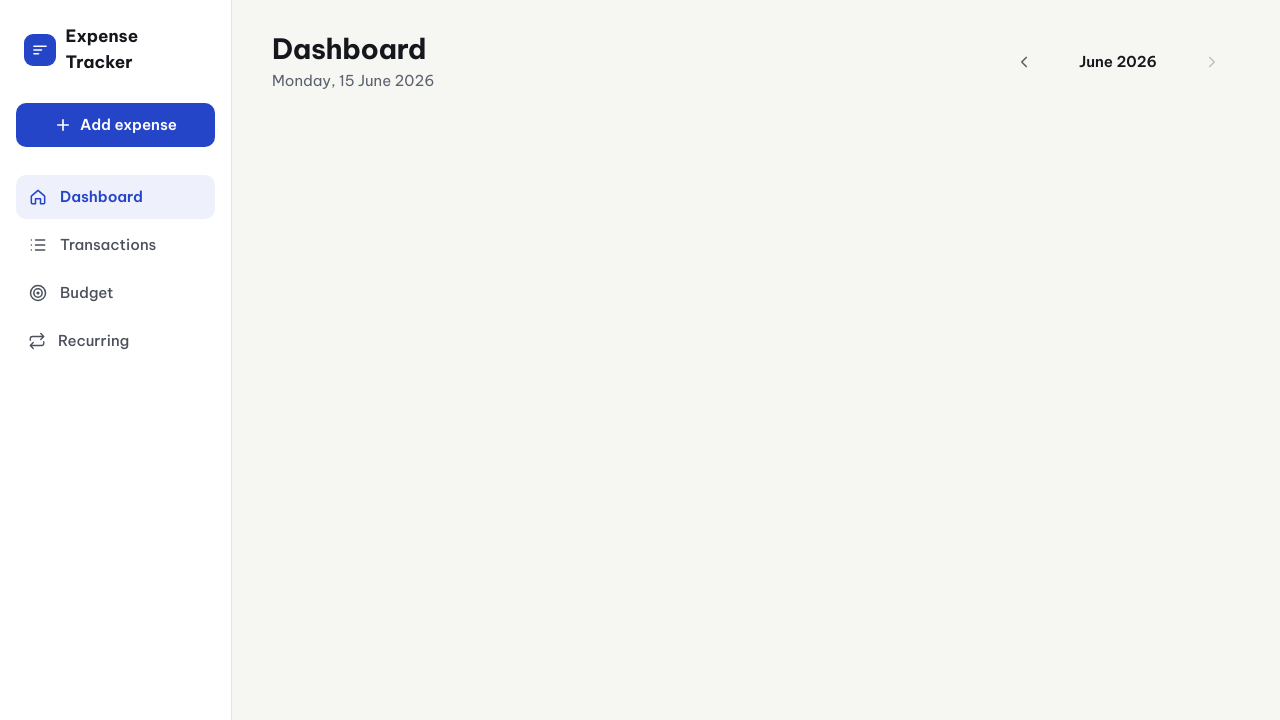
Test: duplicate form › R5: opens as Add expense with no Delete button
Click the button "Transactions" at (116, 245), box [16,223,215,267]
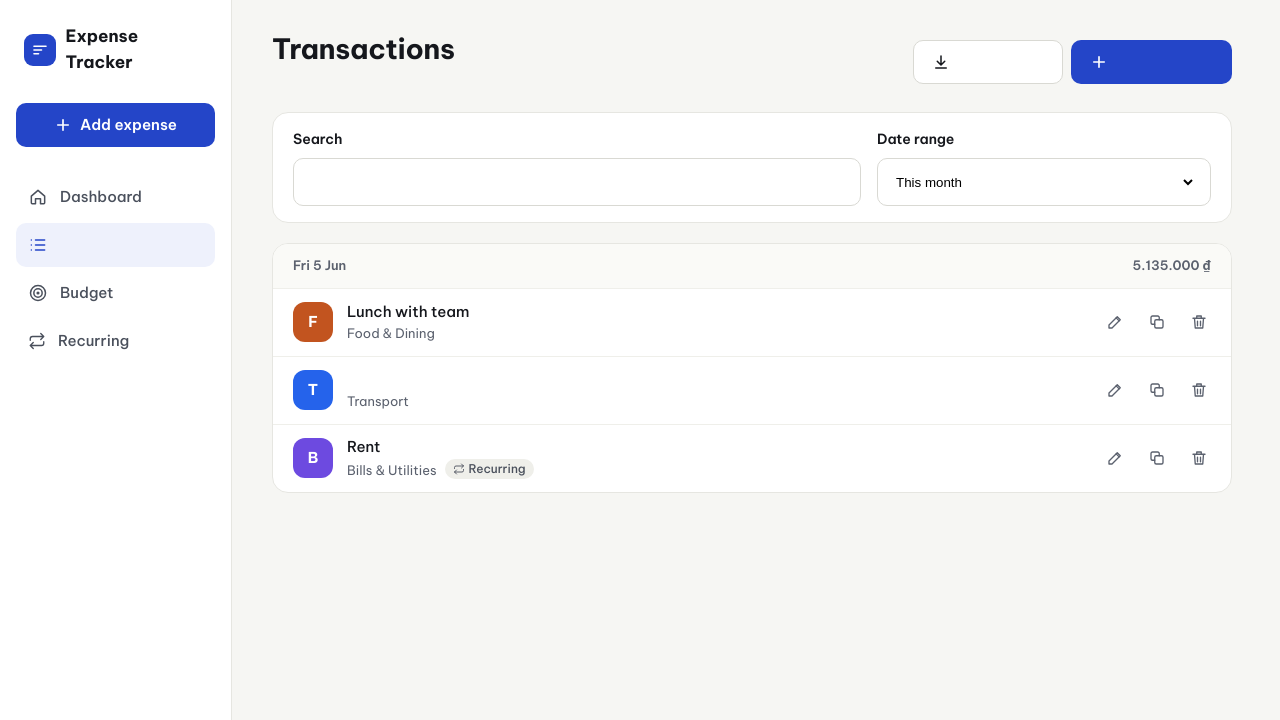
Click the button named "Duplicate Lunch with team" at (1157, 322), box [1137,302,1177,342]
(page scrolled)
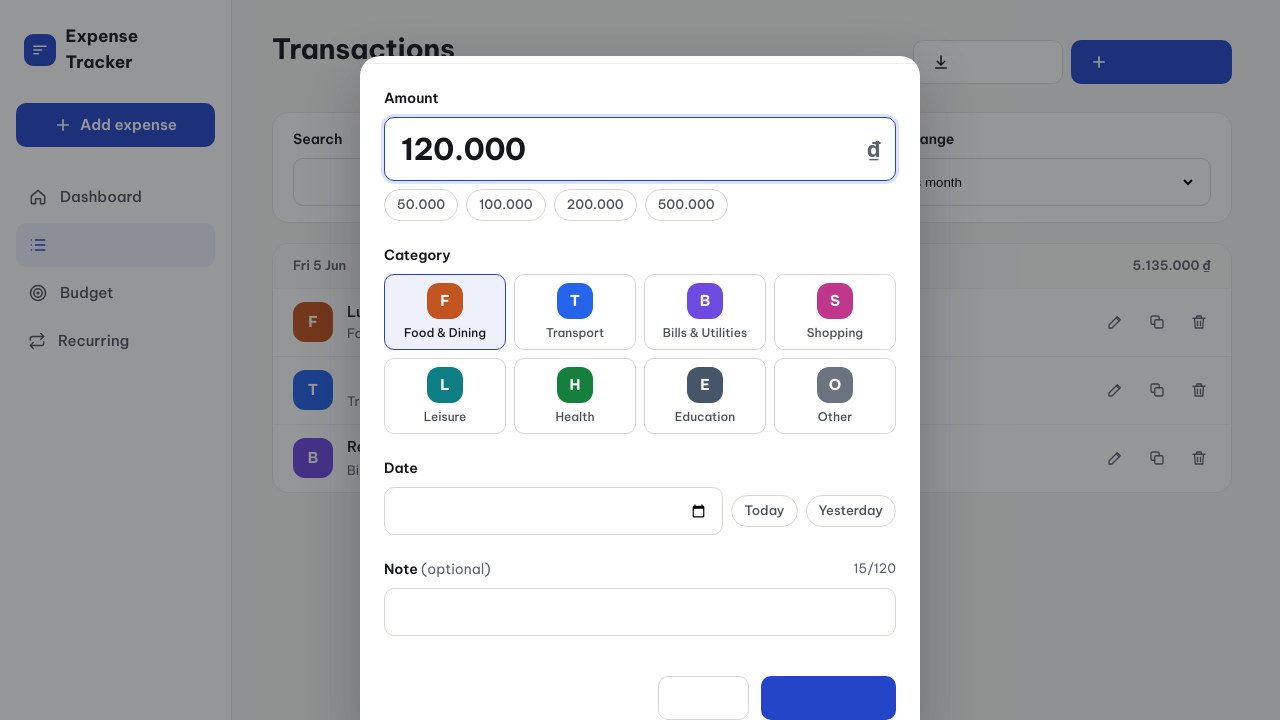
Check: the button "Add expense" is shown, box [761,676,896,719]
